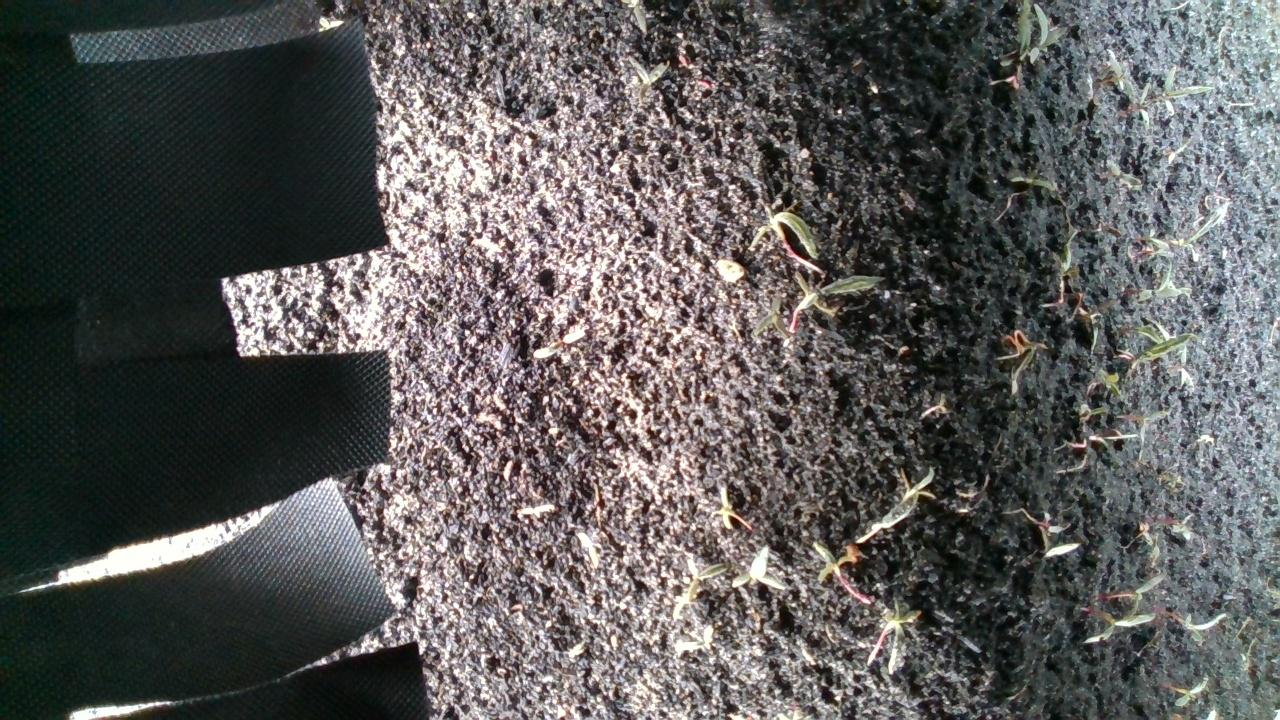weed: (1164, 603, 1219, 650)
